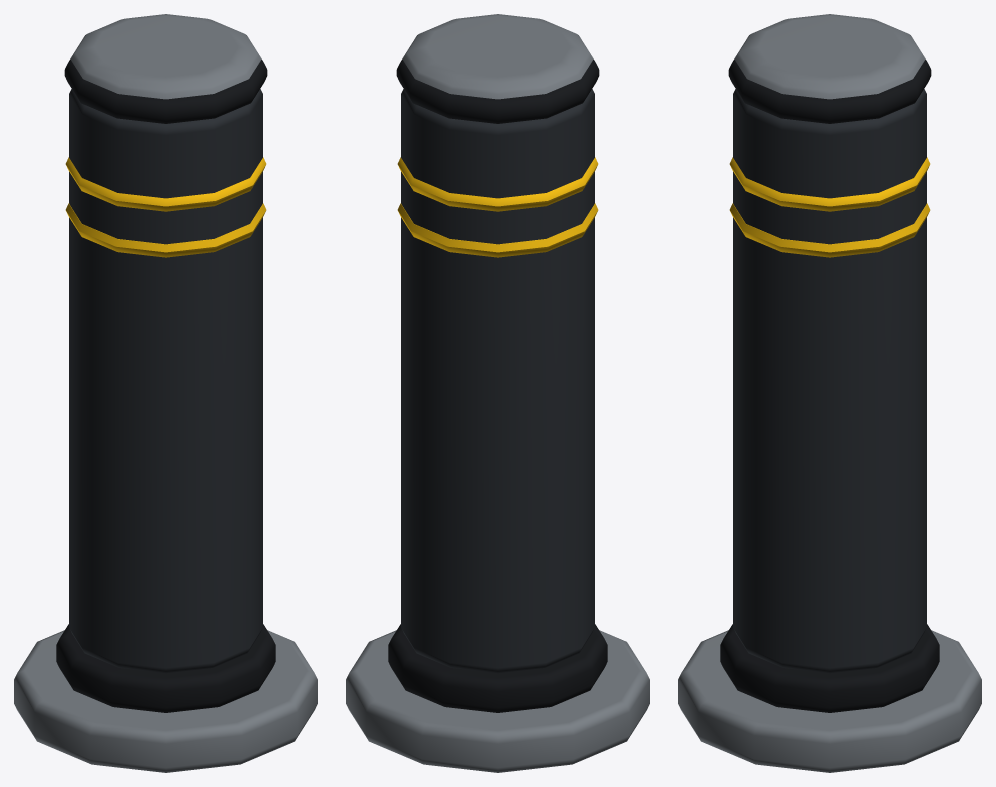
Rendered from PROP_BOLLARD_01.glb.
3 views of the same model, side by side, from view 1: azimuth 30°, elevation 25°; view 2: azimuth 150°, elevation 25°; view 3: azimuth 270°, elevation 25° (orthographic).
Parts seen in each view (by area): view 1: CIVRUM_GAME_PROP_BOLLARD_01; view 2: CIVRUM_GAME_PROP_BOLLARD_01; view 3: CIVRUM_GAME_PROP_BOLLARD_01.
Part boxes in pixels (x1,y1,x2,y2): CIVRUM_GAME_PROP_BOLLARD_01: (14,14,317,772); CIVRUM_GAME_PROP_BOLLARD_01: (346,14,649,772); CIVRUM_GAME_PROP_BOLLARD_01: (678,14,981,772).
Size of the model in its own units: 0.36 by 0.87 by 0.36.
